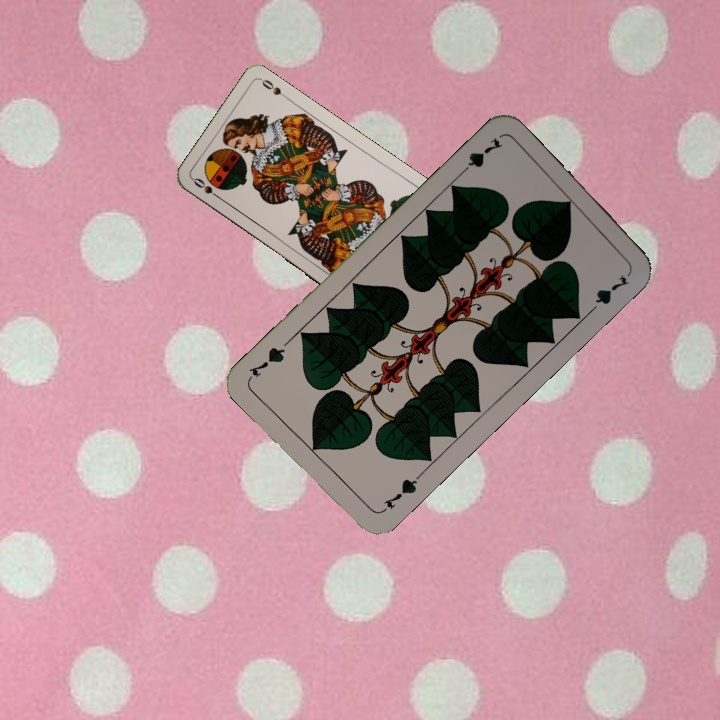G7: (454, 133, 505, 179), (375, 470, 423, 516)
SO: (189, 173, 225, 203)
